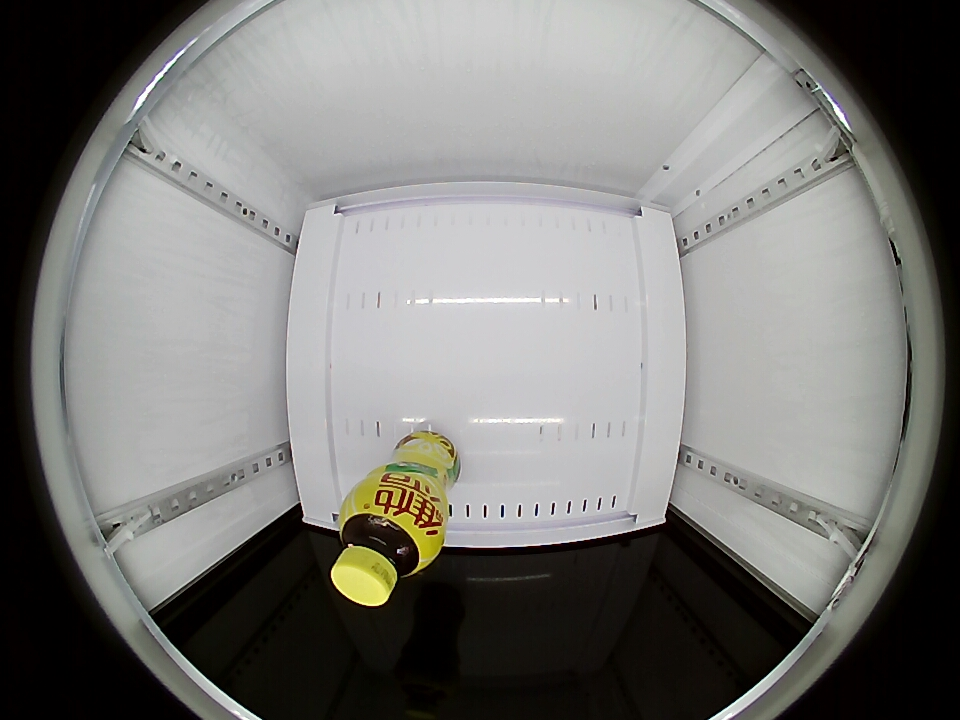weitaningmeng-bottle: (331, 490, 441, 607)
